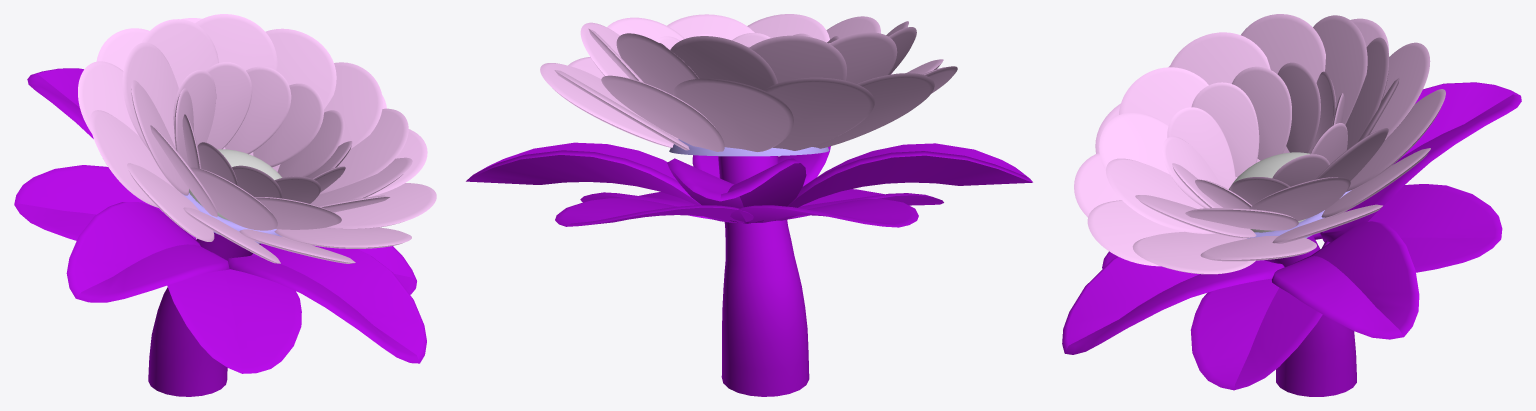
The model's file is Flower5.fbx.
3 renders of one model, left to right at view 1: azimuth 30°, elevation 25°; view 2: azimuth 150°, elevation 25°; view 3: azimuth 270°, elevation 25°, orthographic. The views are drawn at different scales.
Parts seen in each view (by area): view 1: pedals5, leaves, stem5, center; view 2: pedals5, leaves, stem5; view 3: pedals5, leaves, stem5, center.
Part boxes in pixels (x1,y1,x2,y2): pedals5: (78, 14, 436, 263); leaves: (14, 68, 426, 373); stem5: (148, 232, 260, 396); center: (189, 149, 282, 221); pedals5: (540, 14, 957, 151); leaves: (466, 139, 1032, 227); stem5: (718, 156, 809, 396); pedals5: (1074, 14, 1445, 274); leaves: (1062, 82, 1521, 390); stem5: (1264, 235, 1356, 396); center: (1229, 152, 1310, 232).
Bounding box in the file's own units: 0.9952 × 0.772 × 0.94.
